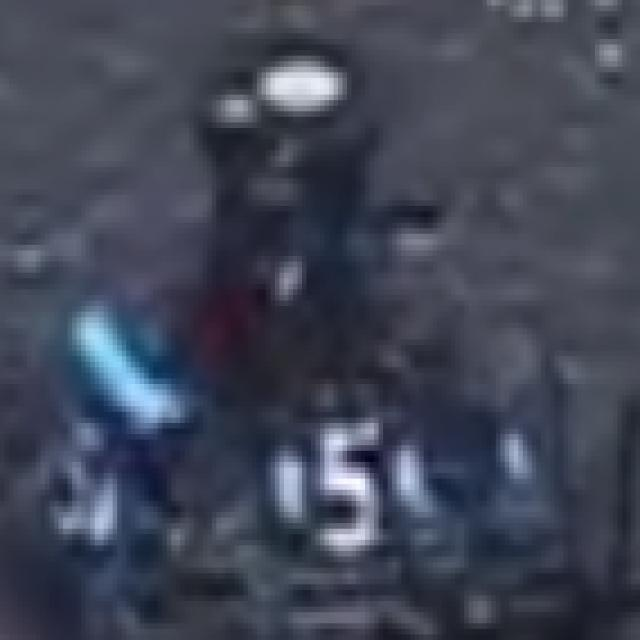B5: (266, 417, 446, 529)
